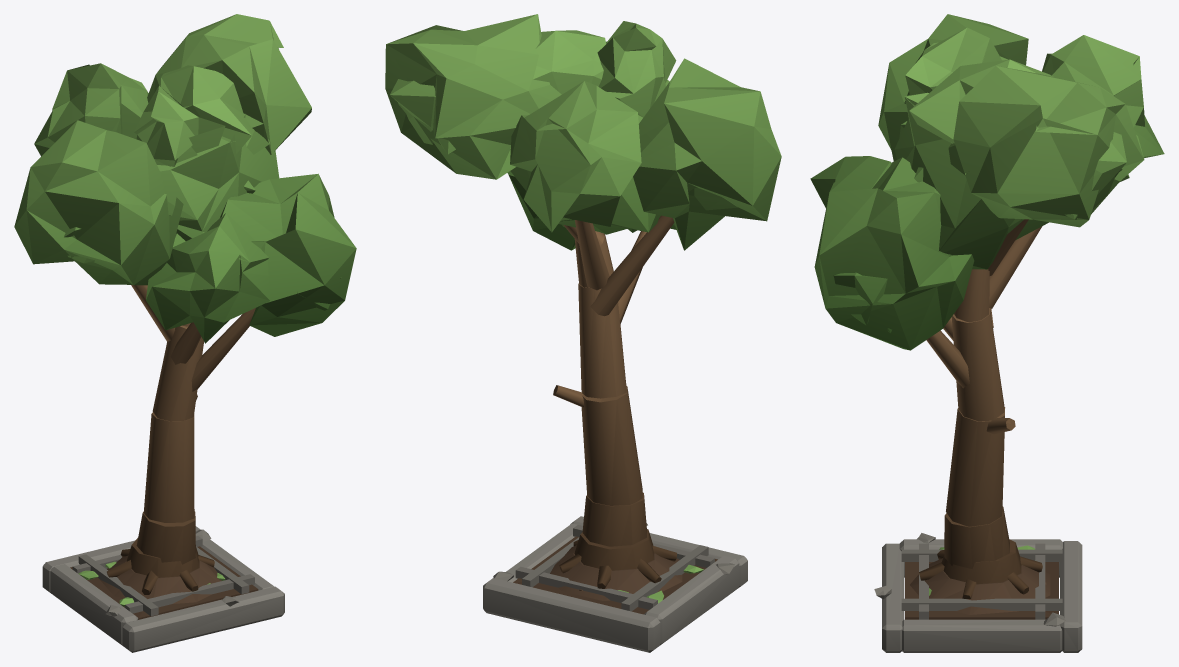
File: street_tree_01.glb
The picture shows the model from 3 angles, left to right: view 1: azimuth 30°, elevation 25°; view 2: azimuth 150°, elevation 25°; view 3: azimuth 270°, elevation 25°; orthographic projection. The views are drawn at different scales.
Visible parts, largest first — view 1: street_tree_01; view 2: street_tree_01; view 3: street_tree_01.
Part boxes in pixels (box(x1,y1,x2,y2)): street_tree_01: box(14, 14, 356, 652); street_tree_01: box(385, 14, 781, 652); street_tree_01: box(810, 14, 1164, 652).
Size of the model in its own units: 2.23 by 3.59 by 1.98.
